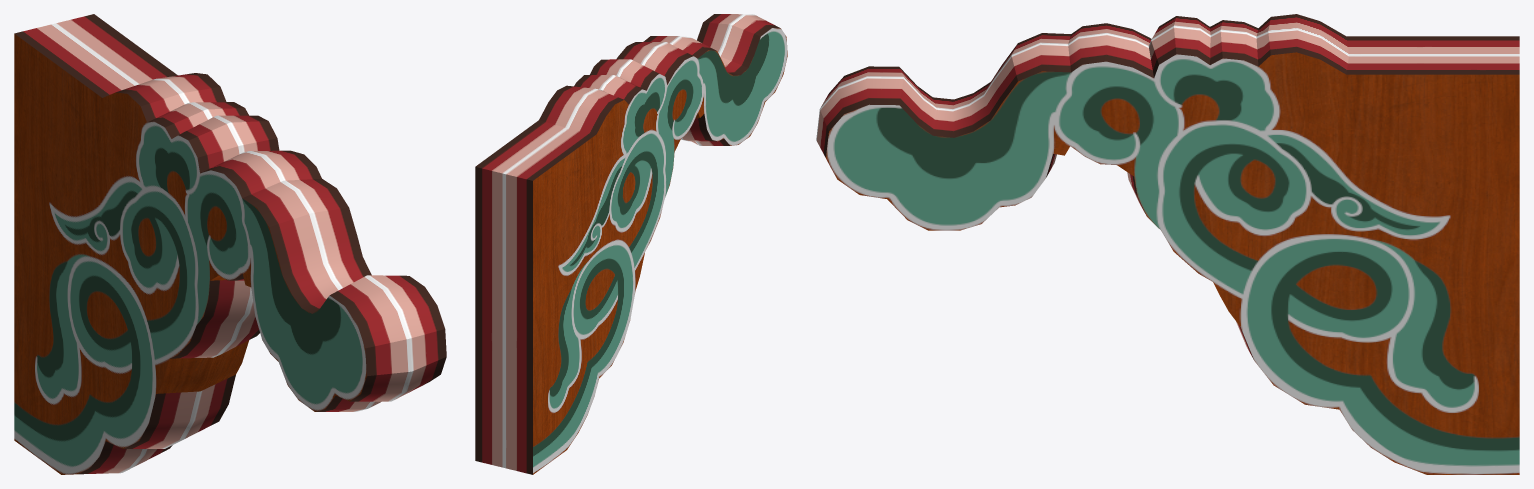
Rendered from SM_Gongpo04B.fbx.
The picture shows the model from 3 angles, left to right: view 1: azimuth 30°, elevation 25°; view 2: azimuth 150°, elevation 25°; view 3: azimuth 270°, elevation 25°; orthographic projection. The views are drawn at different scales.
Parts seen in each view (by area): view 1: SM_Gongpo04B; view 2: SM_Gongpo04B; view 3: SM_Gongpo04B.
Boxes of the visible parts, x1,y1,x2,y2 form: SM_Gongpo04B: (14, 14, 446, 474); SM_Gongpo04B: (475, 14, 787, 474); SM_Gongpo04B: (816, 14, 1519, 474).
Size of the model in its own units: 6.75 by 52.25 by 35.21.
Materials: 1 (1 with a texture image).
